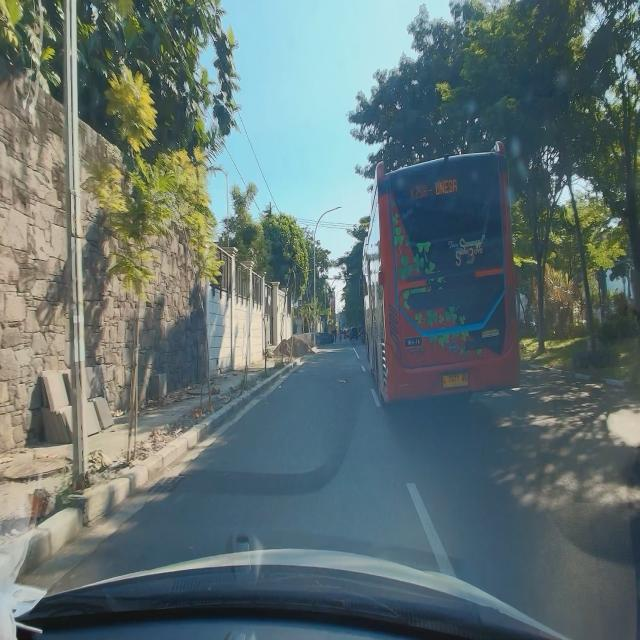bus: (358, 140, 522, 406)
license-plate: (442, 372, 469, 389)
